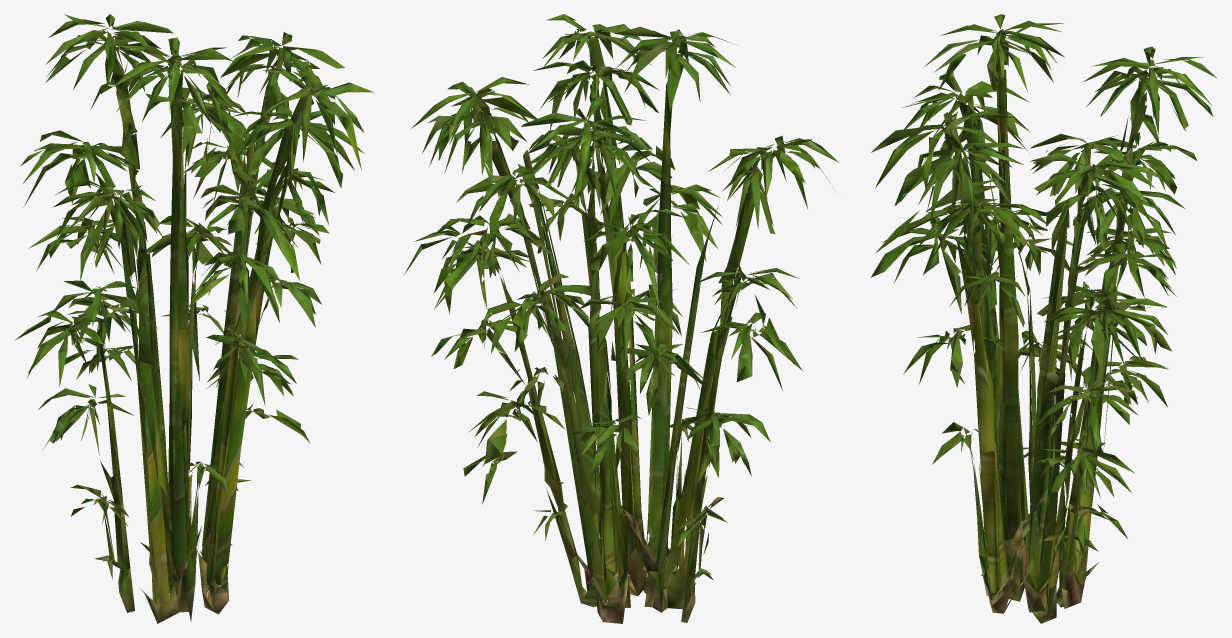
File: bambu_lod1.glb
3 views of the same model, side by side, from view 1: azimuth 30°, elevation 25°; view 2: azimuth 150°, elevation 25°; view 3: azimuth 270°, elevation 25° (orthographic).
Visible parts, largest first — view 1: bambu; view 2: bambu; view 3: bambu.
Part boxes in pixels (x1,y1,x2,y2): bambu: (15, 14, 374, 623); bambu: (404, 14, 839, 623); bambu: (871, 14, 1217, 623).
Bounding box in the file's own units: 4.41 × 7 × 3.88.
Materials: 1 (1 with a texture image).
